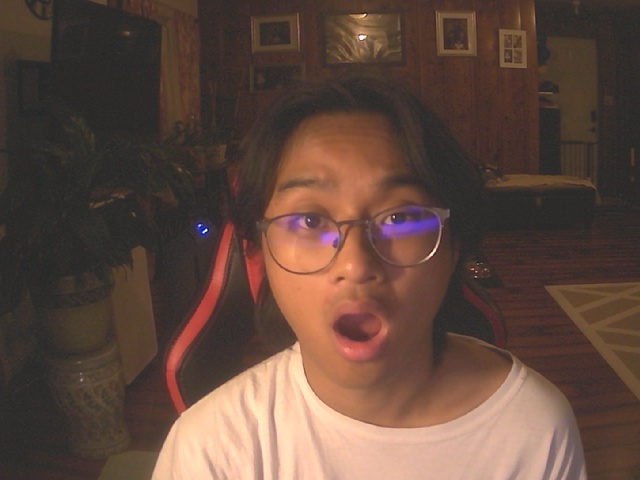fear: (234, 74, 490, 393)
